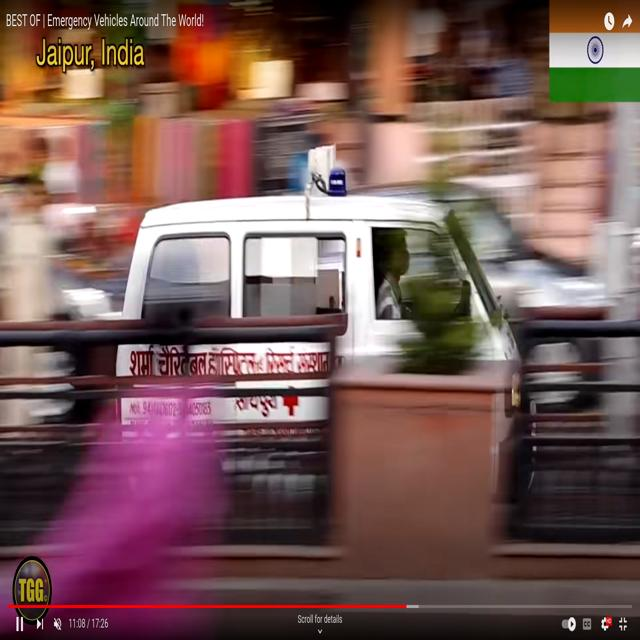emergency-vehicles: (115, 162, 531, 485)
